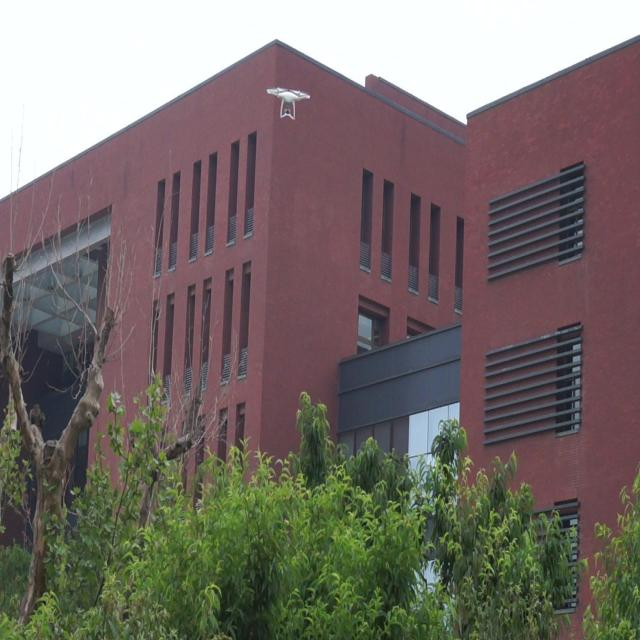drone: (264, 85, 311, 121)
